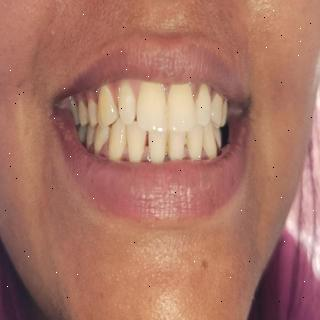plaque: (159, 95, 176, 131), (193, 84, 207, 116), (161, 128, 174, 158), (181, 134, 194, 158), (80, 103, 92, 129), (209, 96, 219, 116)
